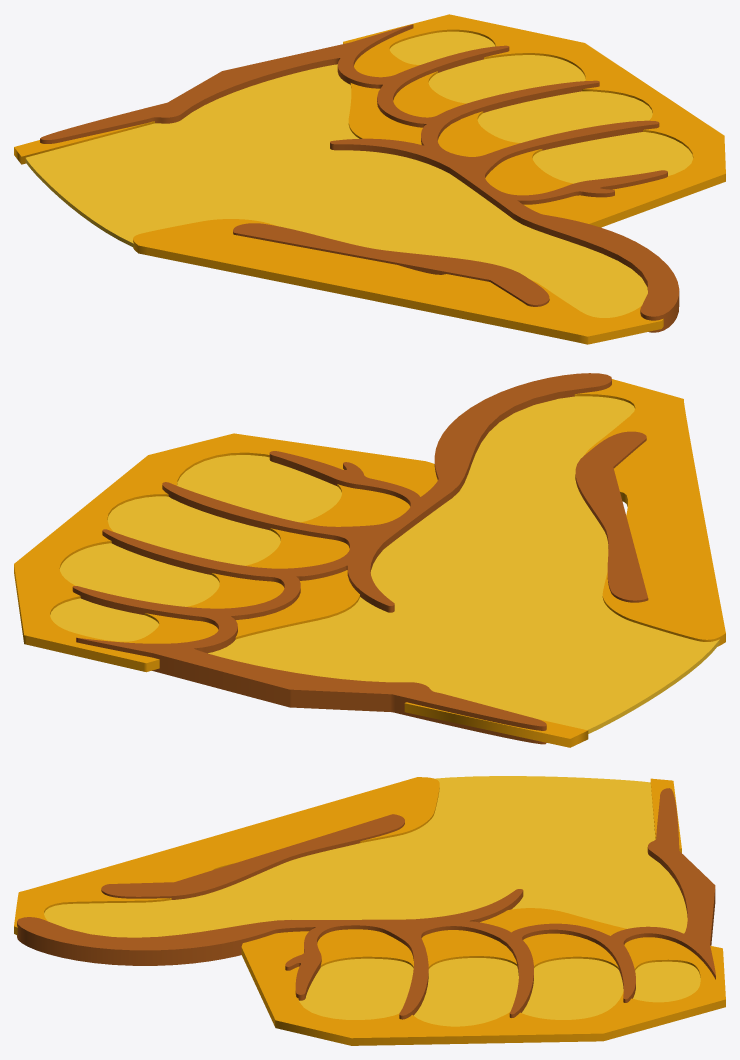
File: emoji_u1f44e.glb
3 renders of one model, top to bottom at view 1: azimuth 30°, elevation 25°; view 2: azimuth 150°, elevation 25°; view 3: azimuth 270°, elevation 25°, orthographic. The views are drawn at different scales.
Visible parts, largest first — view 1: emoji_u1f44e; view 2: emoji_u1f44e; view 3: emoji_u1f44e.
Boxes of the visible parts, x1,y1,x2,y2 form: emoji_u1f44e: (14, 14, 725, 344); emoji_u1f44e: (14, 373, 725, 747); emoji_u1f44e: (14, 776, 725, 1045).
Size of the model in its own units: 0.0292 by 0.0008 by 0.0332.
